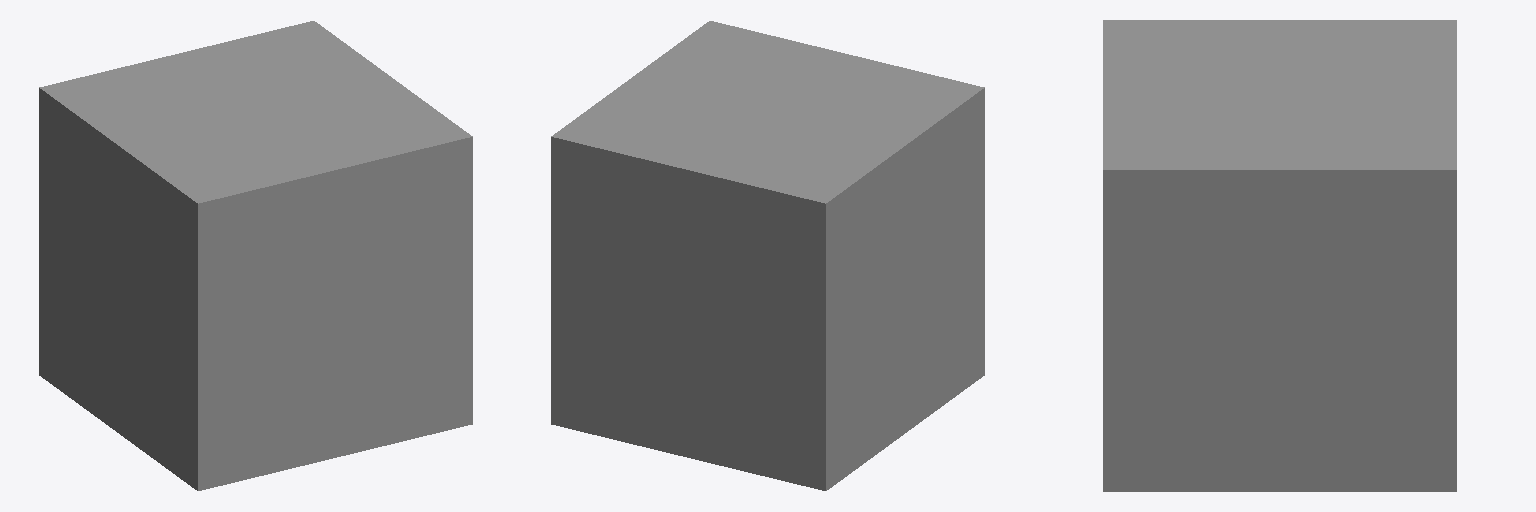
URDF robot description (unshadded_box):
<robot name="unshadded_box">
    <link name="box">
        <visual>
            <origin rpy="0 0 0" xyz="0 0 0"/>
            <geometry>
                <mesh filename="package://kinova_description/meshes/unshadded_box.dae"/>
            </geometry>
        </visual>
        <collision>
            <origin rpy="0 0 0" xyz="0 0 0"/>
            <geometry>
                <mesh filename="package://kinova_description/meshes/unshadded_box.dae"/>
            </geometry>
        </collision>
        <inertial>
            <origin rpy="0 0 0" xyz="0.000000 0.000000 0.000000"/>
            <mass value="35.336455"/>
            <inertia ixx="1.849155" ixy="-0.000354" ixz="-0.154188" iyy="1.662671" iyz="0.003292" izz="0.802239"/>
        </inertial>
    </link>
</robot>

--- Facts derived from the render (not from the file) ---
Views: 3 orthographic renders of the robot side by side, from view 1: azimuth 30°, elevation 25°; view 2: azimuth 150°, elevation 25°; view 3: azimuth 270°, elevation 25°.
Robot: unshadded_box — 1 links, 0 joints (none); root link box; default pose: every joint at zero.
Visible links, largest first — view 1: box; view 2: box; view 3: box.
Link boxes in pixels (x1,y1,x2,y2): box: (39, 21, 472, 490); box: (551, 21, 984, 490); box: (1103, 20, 1456, 491).
Size in the robot's own frame: 2 by 2 by 2 metres.
1 mesh visuals loaded from 1 distinct referenced files (1 Collada DAE).
